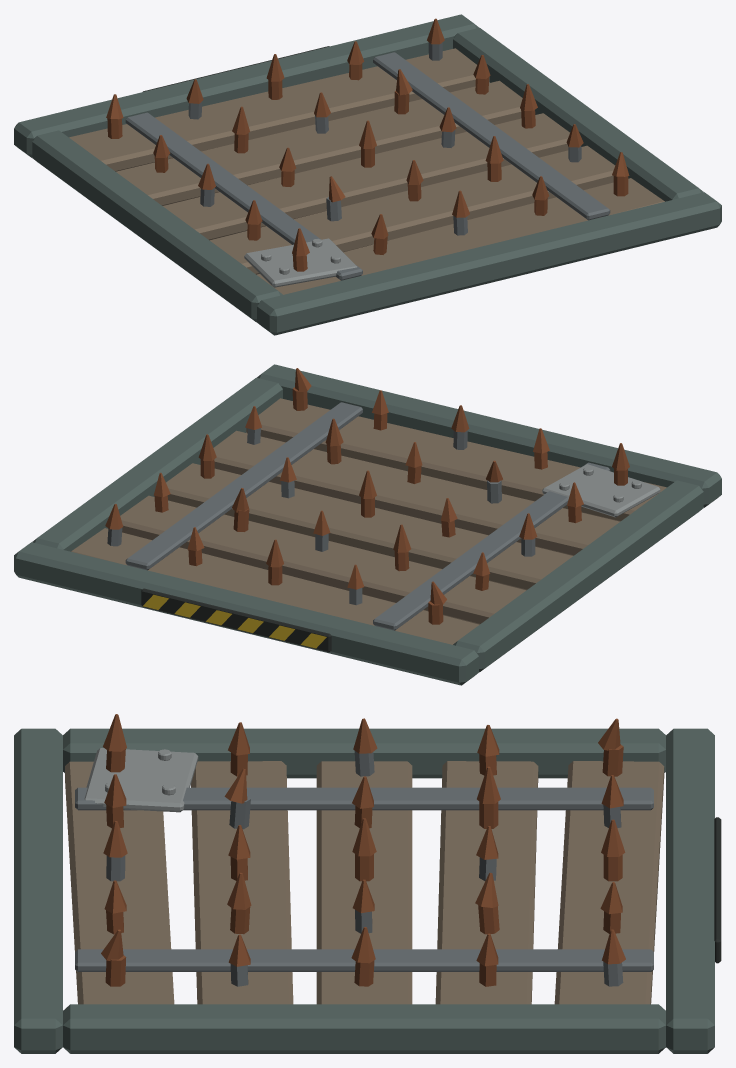
File: spikes.glb
3 views of the same model, one above another, from view 1: azimuth 30°, elevation 25°; view 2: azimuth 150°, elevation 25°; view 3: azimuth 270°, elevation 25° (orthographic). The views are drawn at different scales.
Visible parts, largest first — view 1: spikes; view 2: spikes; view 3: spikes.
Boxes of the visible parts, <box> form: spikes: <box>14,14,721,335</box>; spikes: <box>14,364,721,685</box>; spikes: <box>14,714,721,1053</box>.
Bounding box in the file's own units: 1.72 × 0.2435 × 1.74.
